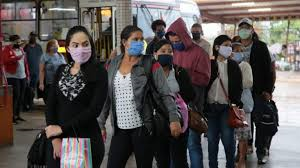with_mask: (63, 30, 95, 64), (120, 24, 145, 58), (150, 39, 175, 68), (213, 37, 233, 60), (237, 19, 255, 40)
